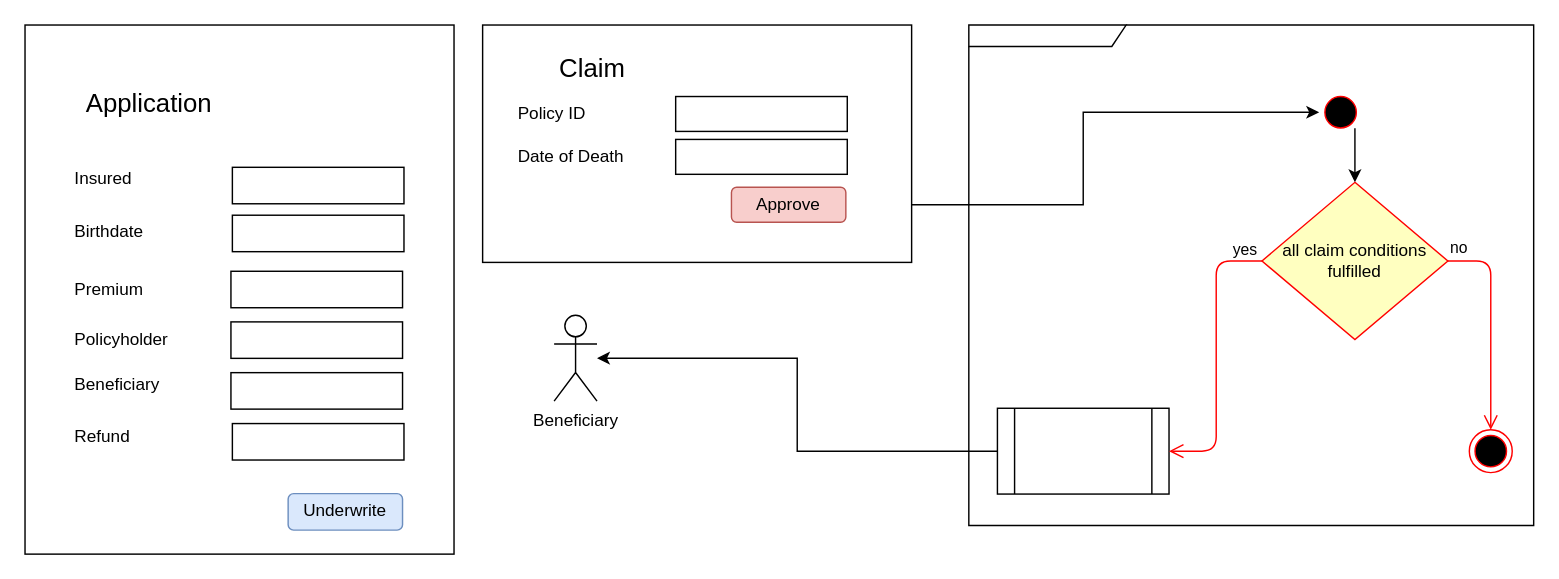
Image size: 1559x579. Some labels were removed from this diagram. Here are the shapes that lost their labels. From the top down, the box of each, then its label:
(967, 24, 1534, 526): Claims Process
(996, 407, 1169, 494): Payment
